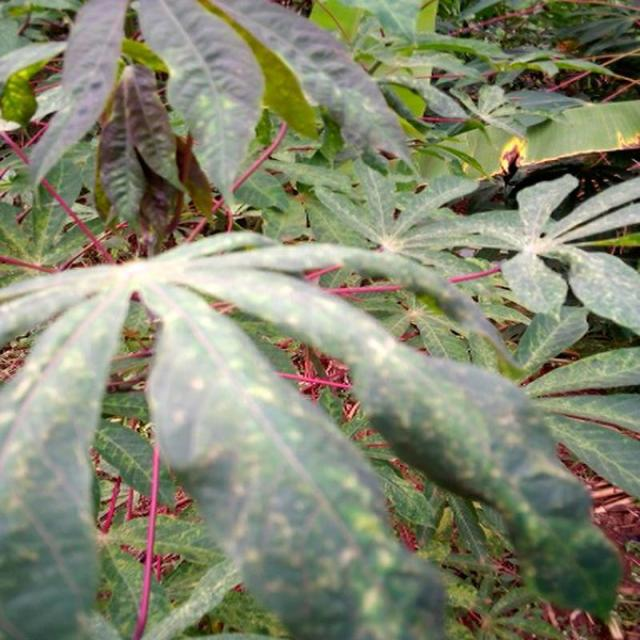cassava leaf: (1, 229, 622, 638), (144, 280, 450, 638)
